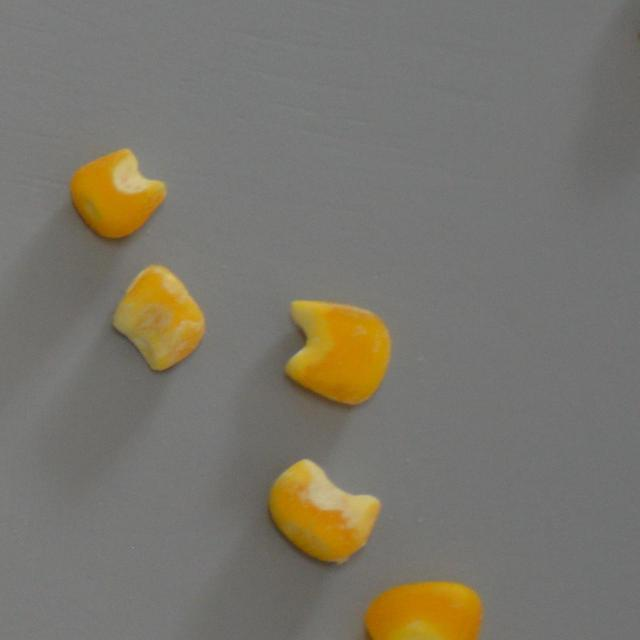no_canjicado: (283, 296, 392, 406), (68, 146, 166, 240), (364, 578, 484, 640)
pelicula: (269, 458, 382, 564), (110, 266, 206, 374)
